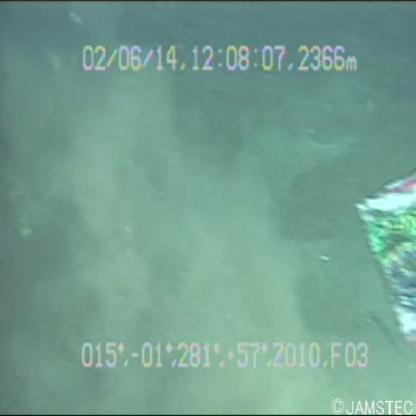Rác: (350, 149, 416, 346)
